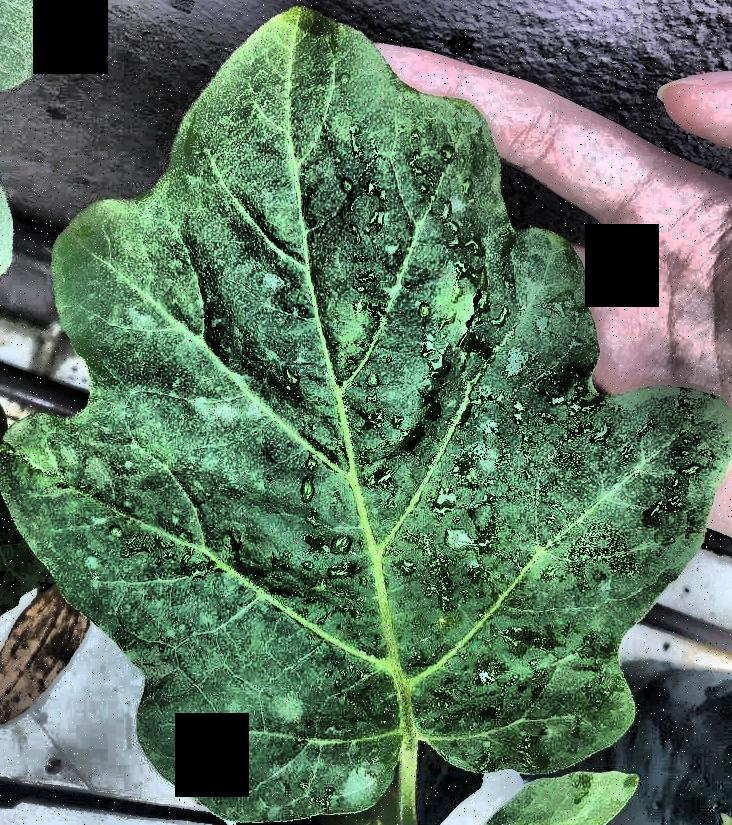HEALTHY: (1, 0, 732, 825)
